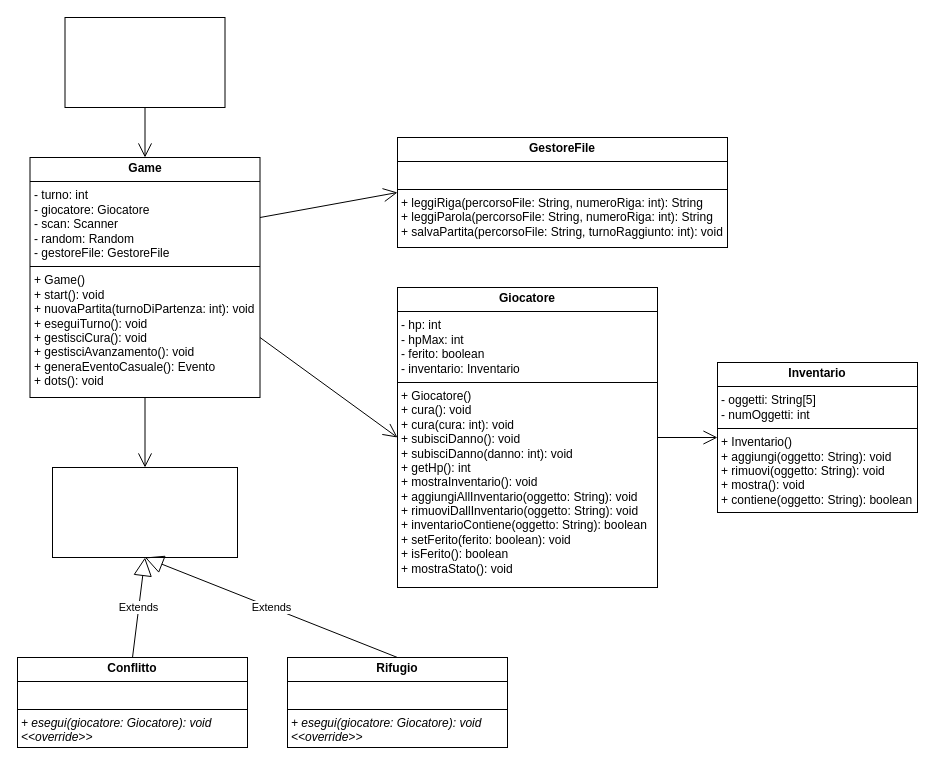
Some shapes in this 935 by 765 pixel diagram are drawn without their labels. The shapes that lost their labels are listed below. From the top down, each one's centre as x and y in pixels, then its label:
At point (144, 62): "Main + main(args: String[ ]): void".
At point (145, 512): "Evento # random: Random + Evento() + esegui(giocatore: Giocatore): void".
